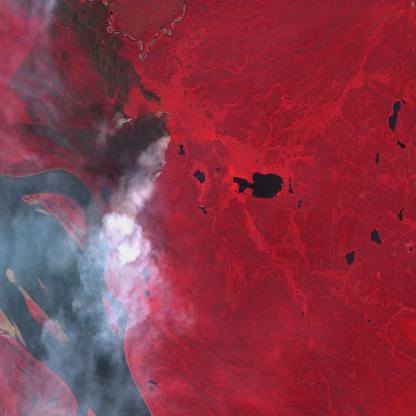fire: (116, 107, 175, 199)
